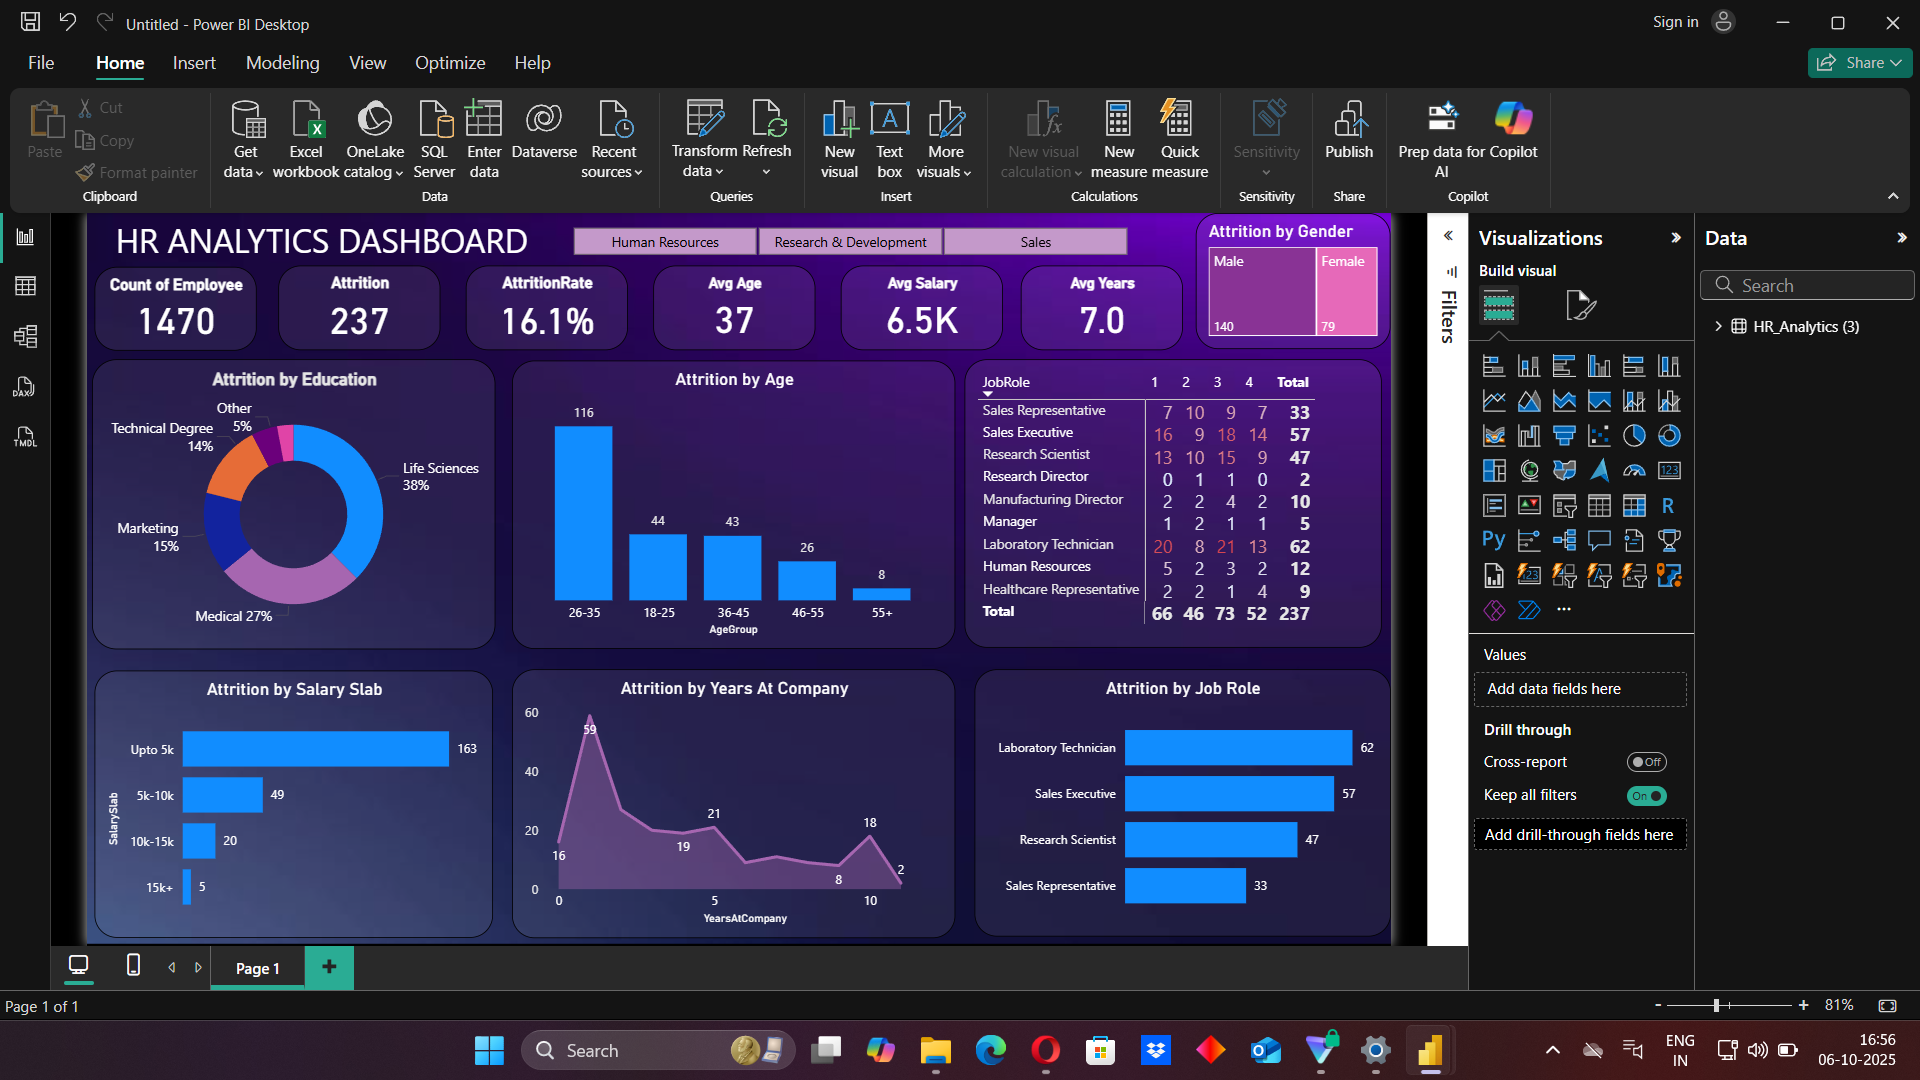

Layout of this report page (visuals, bound fields, positions):
{"tool":"powerbi","page":{"name":"Page 1","canvas":[1280,720],"ordinal":0},"visuals":[{"type":"card","title":"Count of Employee","fields":{"Values":["Count(HR_Analytics (3).EmpID)"]},"box":[7.4,53,160,84.7],"z":0},{"type":"card","title":"Attrition","fields":{"Values":["Sum(HR_Analytics (3).AttritionCount)"]},"box":[187.7,51.8,159.5,83.4],"z":1000},{"type":"card","title":"AttritionRate","fields":{"Values":["HR_Analytics (3).AttritionRate"]},"box":[371.8,51.8,159.5,83.4],"z":2000},{"type":"card","title":"Avg Age","fields":{"Values":["Avg(HR_Analytics (3).Age)"]},"box":[555.8,51.8,159.5,83.4],"z":3000},{"type":"card","title":"Avg Years","fields":{"Values":["Avg(HR_Analytics (3).YearsAtCompany)"]},"box":[916.6,51.8,159.5,83.4],"z":4000},{"type":"card","title":"Avg Salary","fields":{"Values":["Avg(HR_Analytics (3).MonthlyIncome)"]},"box":[739.9,51.8,159.5,83.4],"z":5000},{"type":"donutChart","title":"Attrition by Education","fields":{"Category":["HR_Analytics (3).EducationField"],"Y":["Sum(HR_Analytics (3).AttritionCount)"]},"box":[4.9,143.8,396.3,284.7],"z":6000},{"type":"pivotTable","fields":{"Rows":["HR_Analytics (3).JobRole"],"Columns":["HR_Analytics (3).JobSatisfaction"],"Values":["Sum(HR_Analytics (3).AttritionCount)"]},"box":[861.4,143.8,409.8,283.4],"z":7000},{"type":"areaChart","title":"Attrition by Years At Company","fields":{"Category":["HR_Analytics (3).YearsAtCompany"],"Y":["Sum(HR_Analytics (3).AttritionCount)"]},"box":[417.2,447.9,435.6,263.8],"z":8000},{"type":"treemap","title":"Attrition by Gender","fields":{"Group":["HR_Analytics (3).Gender"],"Values":["Sum(HR_Analytics (3).AttritionCount)"]},"box":[1088.3,0,191.4,133.7],"z":9000},{"type":"slicer","fields":{"Values":["HR_Analytics (3).Department"]},"box":[451.5,7.4,593.9,38],"z":10000},{"type":"columnChart","title":"Attrition by Age","fields":{"Category":["HR_Analytics (3).AgeGroup"],"Y":["Sum(HR_Analytics (3).AttritionCount)"]},"box":[417.2,145,435.6,283.4],"z":12000},{"type":"barChart","title":"Attrition by Salary Slab","fields":{"Category":["HR_Analytics (3).SalarySlab"],"Y":["Sum(HR_Analytics (3).AttritionCount)"]},"box":[7.4,449.1,391.4,262.6],"z":13000},{"type":"barChart","title":"Attrition by Job Role","fields":{"Category":["HR_Analytics (3).JobRole"],"Y":["Sum(HR_Analytics (3).AttritionCount)"]},"box":[871.2,447.9,408.6,262.6],"z":14000},{"type":"textbox","box":[23.3,0,487.1,61.4],"z":14001}]}

Visuals, with their boxes on the page's 1280x720 design canvas (x1, y1, x2, y2). These are canvas units, not pixel positions in the 1920x1080 screenshot, which may show the page scaled, cropped or inside an application window:
"Count of Employee" card: (7, 53, 167, 138)
"Attrition" card: (188, 52, 347, 135)
"AttritionRate" card: (372, 52, 531, 135)
"Avg Age" card: (556, 52, 715, 135)
"Avg Years" card: (917, 52, 1076, 135)
"Avg Salary" card: (740, 52, 899, 135)
"Attrition by Education" donutChart: (5, 144, 401, 428)
pivotTable - HR_Analytics (3).JobRole x HR_Analytics (3).JobSatisfaction: (861, 144, 1271, 427)
"Attrition by Years At Company" areaChart: (417, 448, 853, 712)
"Attrition by Gender" treemap: (1088, 0, 1280, 134)
slicer - HR_Analytics (3).Department: (452, 7, 1045, 45)
"Attrition by Age" columnChart: (417, 145, 853, 428)
"Attrition by Salary Slab" barChart: (7, 449, 399, 712)
"Attrition by Job Role" barChart: (871, 448, 1280, 710)
textbox: (23, 0, 510, 61)
